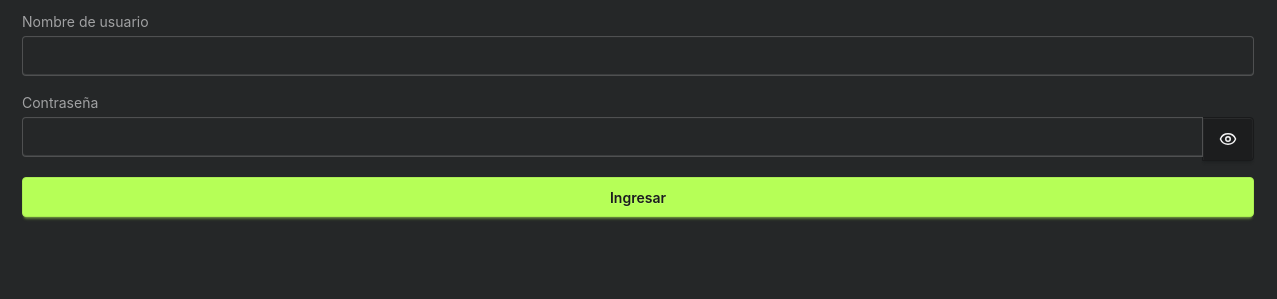
Test: LoginForm › shows the same generic credential failure
In the field labelled "Nombre de usuario": coordinates (638, 56) [22,36,1254,76], type "nadie"
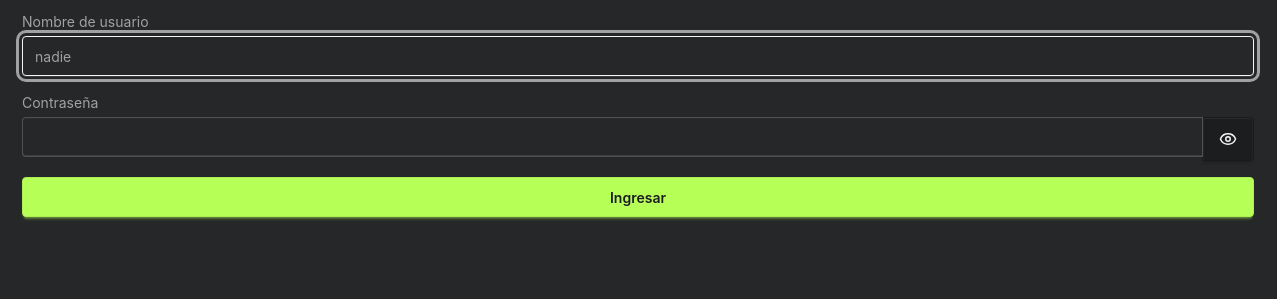
In the password field labelled "Contraseña": coordinates (612, 137) [22,117,1203,157], type "Incorrecta!123"
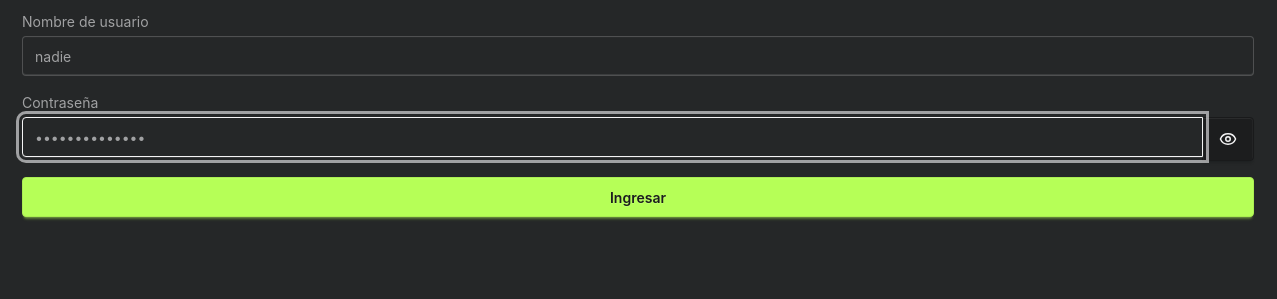
Click the button "Ingresar": coordinates (638, 197) [22,177,1254,217]
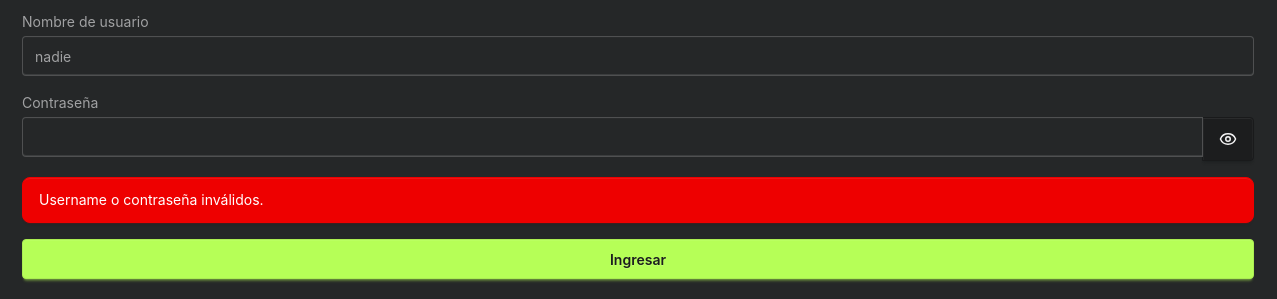
Now the message reads "Username o contraseña inválidos.", box [39,191,264,208]
